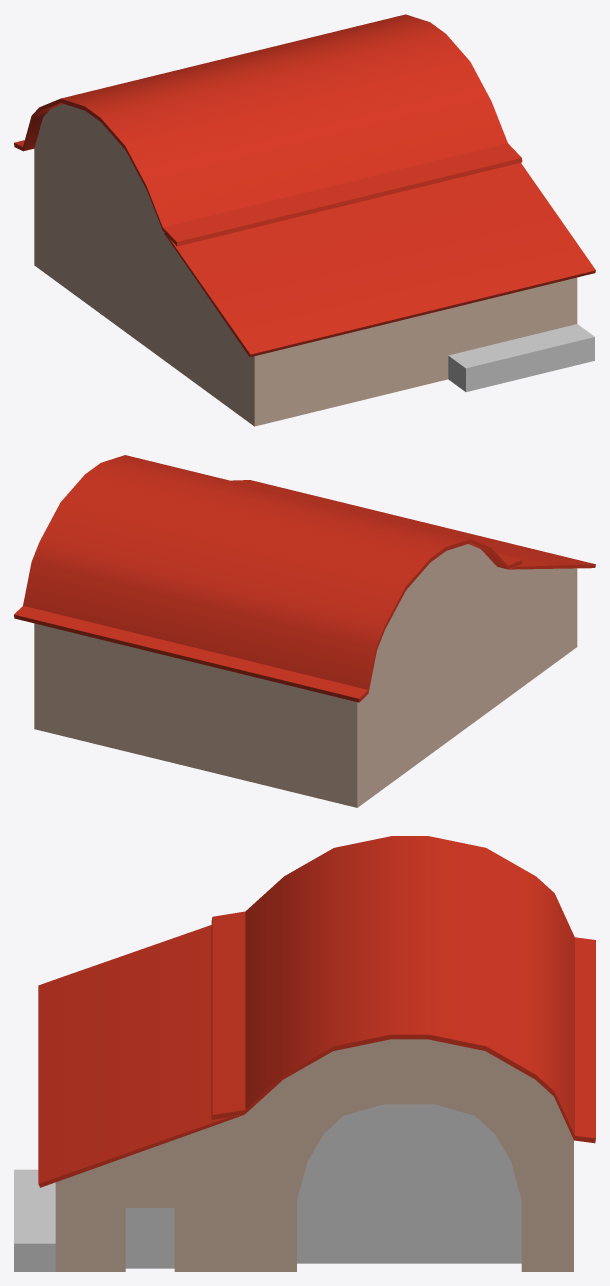
Rendered from Barn.fbx.
3 renders of one model, top to bottom at view 1: azimuth 30°, elevation 25°; view 2: azimuth 150°, elevation 25°; view 3: azimuth 270°, elevation 25°, orthographic. The views are drawn at different scales.
Parts seen in each view (by area): view 1: Barn; view 2: Barn; view 3: Barn.
Boxes of the visible parts, x1,y1,x2,y2 form: Barn: (14,14,595,426); Barn: (14,455,595,807); Barn: (14,836,595,1271).
Size of the model in its own units: 1070 by 612 by 1325.
